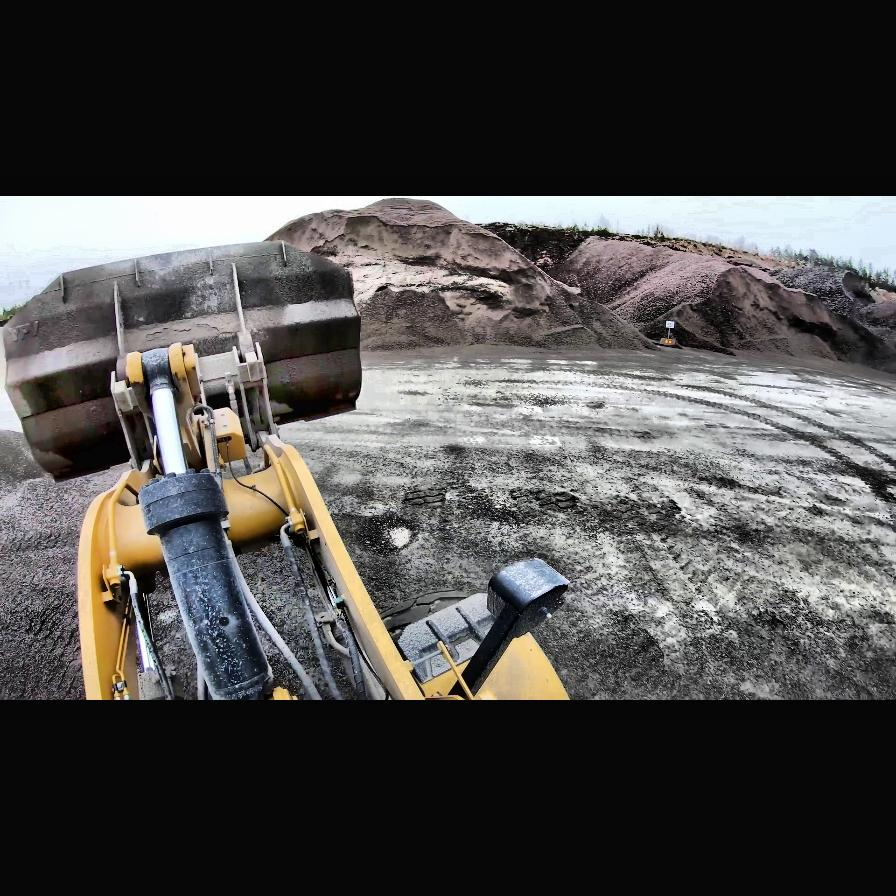anchor: (128, 342, 196, 392)
pile of gravel: (264, 197, 664, 357), (562, 232, 896, 360)
